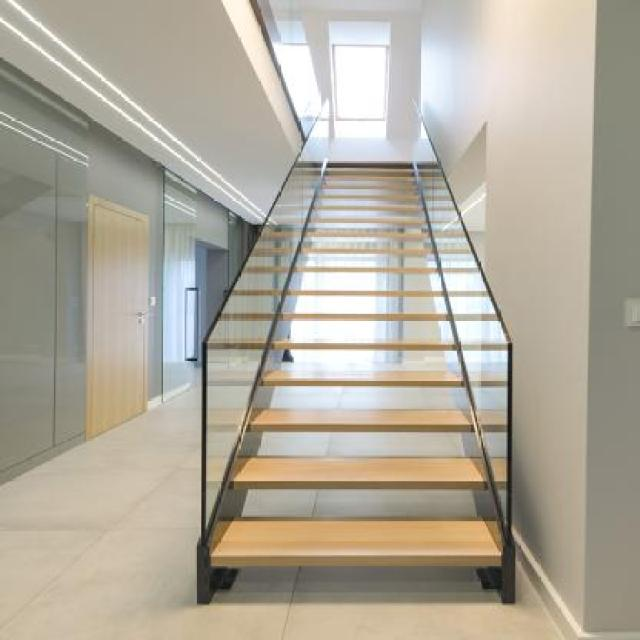stair: (208, 88, 582, 602)
